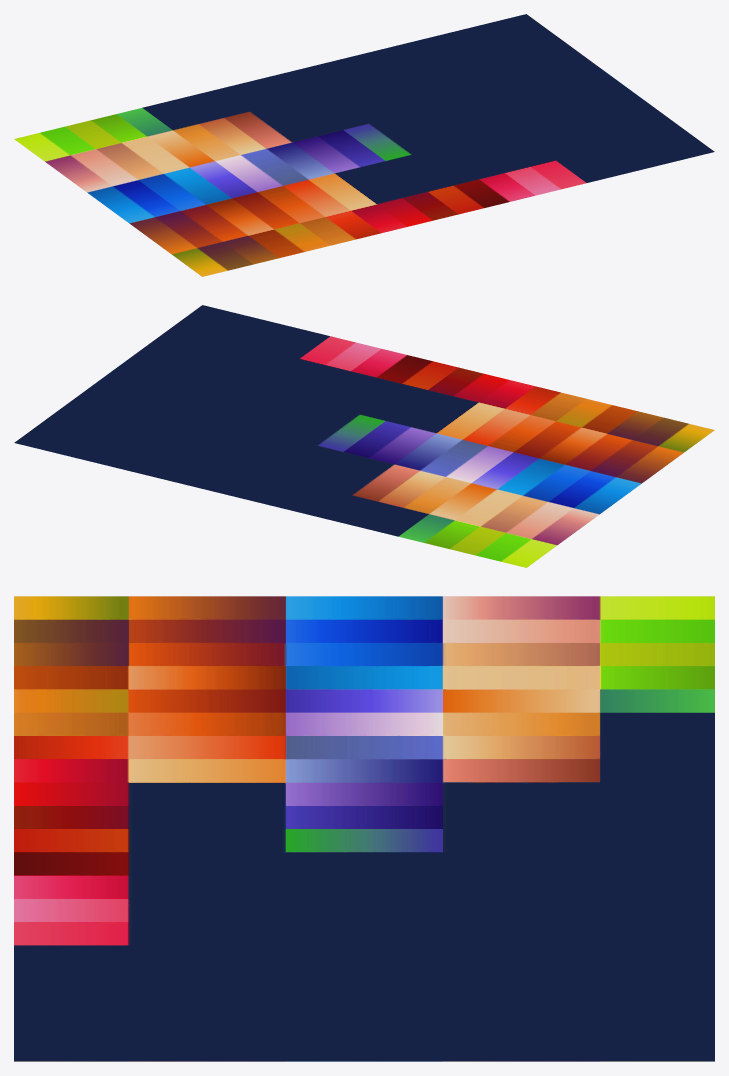
File: Ground.FBX
The picture shows the model from 3 angles, top to bottom: view 1: azimuth 30°, elevation 25°; view 2: azimuth 150°, elevation 25°; view 3: azimuth 270°, elevation 25°; orthographic projection. The views are drawn at different scales.
Parts seen in each view (by area): view 1: Ground; view 2: Ground; view 3: Ground.
Boxes of the visible parts, x1,y1,x2,y2 form: Ground: [14, 14, 714, 276]; Ground: [14, 305, 714, 567]; Ground: [14, 596, 714, 1061].
Size of the model in its own units: 11278 by 0.0014 by 7181.
1 material, 1 textured.
